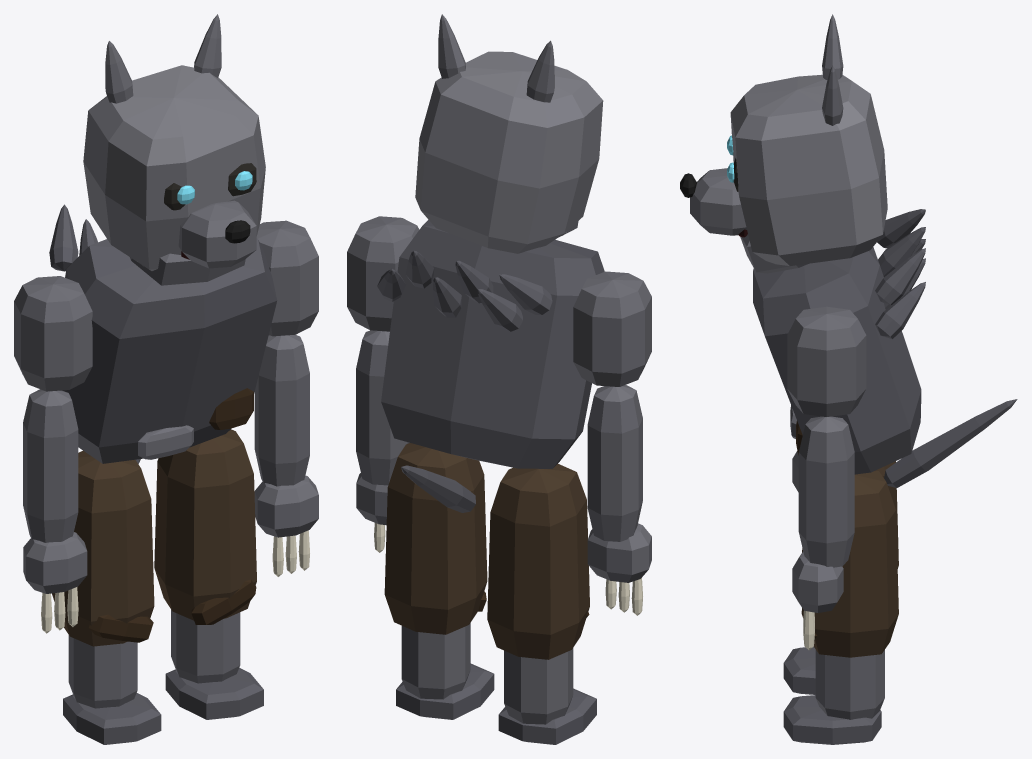
Rendered from mon-werewolf-2.glb.
3 renders of one model, left to right at view 1: azimuth 30°, elevation 25°; view 2: azimuth 150°, elevation 25°; view 3: azimuth 270°, elevation 25°, orthographic. The views are drawn at different scales.
Parts seen in each view (by area): view 1: torso, head, leg-left, leg-right, arm-right, arm-left; view 2: torso, head, leg-right, leg-left, arm-right, arm-left; view 3: head, torso, arm-left, leg-left, leg-right.
Part boxes in pixels (box(x1,y1,x2,y2)): torso: box(49, 204, 277, 463); head: box(83, 14, 265, 285); leg-left: box(154, 429, 263, 719); leg-right: box(52, 450, 161, 744); arm-right: box(14, 276, 92, 633); arm-left: box(254, 220, 318, 576); torso: box(377, 220, 604, 512); head: box(415, 14, 603, 253); leg-right: box(487, 464, 596, 744); leg-left: box(384, 443, 494, 719); arm-right: box(573, 271, 651, 615); arm-left: box(347, 216, 419, 552); head: box(680, 14, 887, 273); torso: box(753, 209, 1017, 487); arm-left: box(787, 306, 866, 650); leg-left: box(783, 470, 898, 744); leg-right: box(783, 461, 898, 694).
Bounding box in the file's own units: 1.11 × 2.51 × 1.15.
